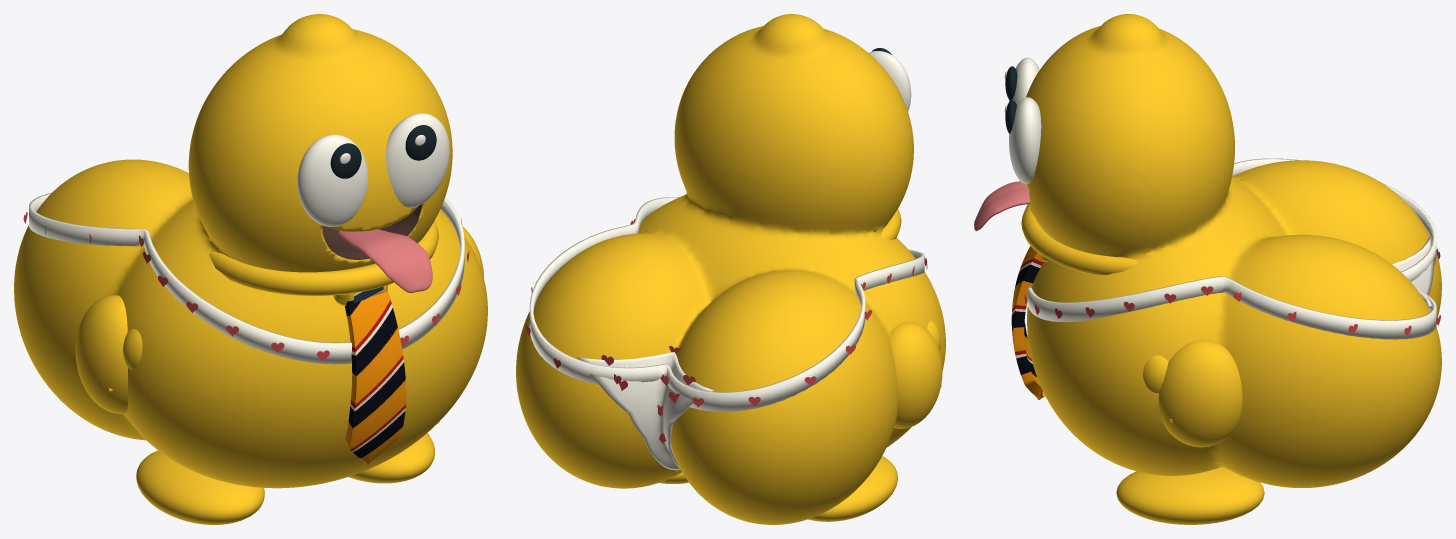
File: toy_stock_gourd.glb
3 views of the same model, side by side, from view 1: azimuth 30°, elevation 25°; view 2: azimuth 150°, elevation 25°; view 3: azimuth 270°, elevation 25° (orthographic). The views are drawn at different scales.
Visible parts, largest first — view 1: Body | 07 | warm golden yellow soft vinyl, Body | 07 | warm golden yellow soft vinyl.001, Body | 07 | cream eye whites and underwear, Body | 07 | woven tie yellow navy cream red, Body | 07 | rosy tongue, Body | 07 | black pupils, Body | 07 | red hearts and tie pinstripe; view 2: Body | 07 | warm golden yellow soft vinyl, Body | 07 | cream eye whites and underwear, Body | 07 | warm golden yellow soft vinyl.001, Body | 07 | red hearts and tie pinstripe; view 3: Body | 07 | warm golden yellow soft vinyl, Body | 07 | warm golden yellow soft vinyl.001, Body | 07 | cream eye whites and underwear, Body | 07 | woven tie yellow navy cream red, Body | 07 | rosy tongue, Body | 07 | red hearts and tie pinstripe, Body | 07 | black pupils.
Part boxes in pixels (x1,y1,x2,y2): Body | 07 | warm golden yellow soft vinyl: (14,14,487,488); Body | 07 | warm golden yellow soft vinyl.001: (75,221,483,524); Body | 07 | cream eye whites and underwear: (29,113,464,364); Body | 07 | woven tie yellow navy cream red: (345,291,406,465); Body | 07 | rosy tongue: (338,229,432,292); Body | 07 | black pupils: (330,125,436,178); Body | 07 | red hearts and tie pinstripe: (23,212,469,361); Body | 07 | warm golden yellow soft vinyl: (516,14,945,524); Body | 07 | cream eye whites and underwear: (529,51,924,470); Body | 07 | warm golden yellow soft vinyl.001: (659,209,942,521); Body | 07 | red hearts and tie pinstripe: (526,219,927,443); Body | 07 | warm golden yellow soft vinyl: (1021,14,1441,487); Body | 07 | warm golden yellow soft vinyl.001: (1021,204,1264,524); Body | 07 | cream eye whites and underwear: (1004,57,1436,339); Body | 07 | woven tie yellow navy cream red: (1011,246,1045,399); Body | 07 | rosy tongue: (974,181,1030,231); Body | 07 | red hearts and tie pinstripe: (1024,217,1440,336); Body | 07 | black pupils: (1005,66,1017,133).
Size of the model in its own units: 2.72 by 3.28 by 3.03.
Materials: 8 (1 with a texture image).
